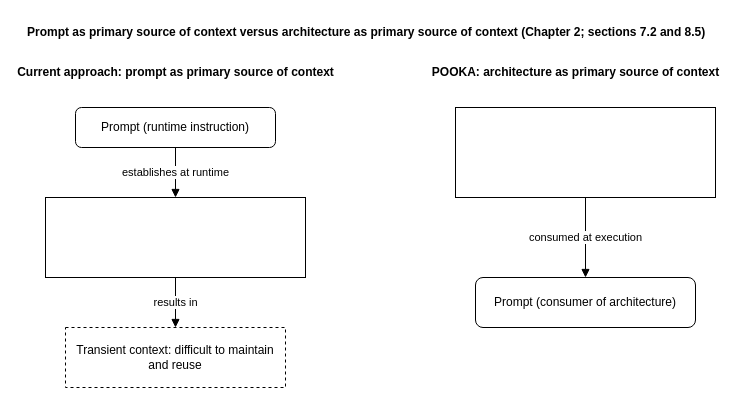
Image size: 743x405. Some labels were removed from this diagram. The shapes that lost their labels are listed below. From the top down, each one's box as (x1, y1, x2, y2) in pixels, then its label:
(454, 106, 716, 198): Persistent architecture: context, semantics, governance, behavior
(44, 196, 306, 278): roles, objectives, behavioral expectations, terminology, context, background
